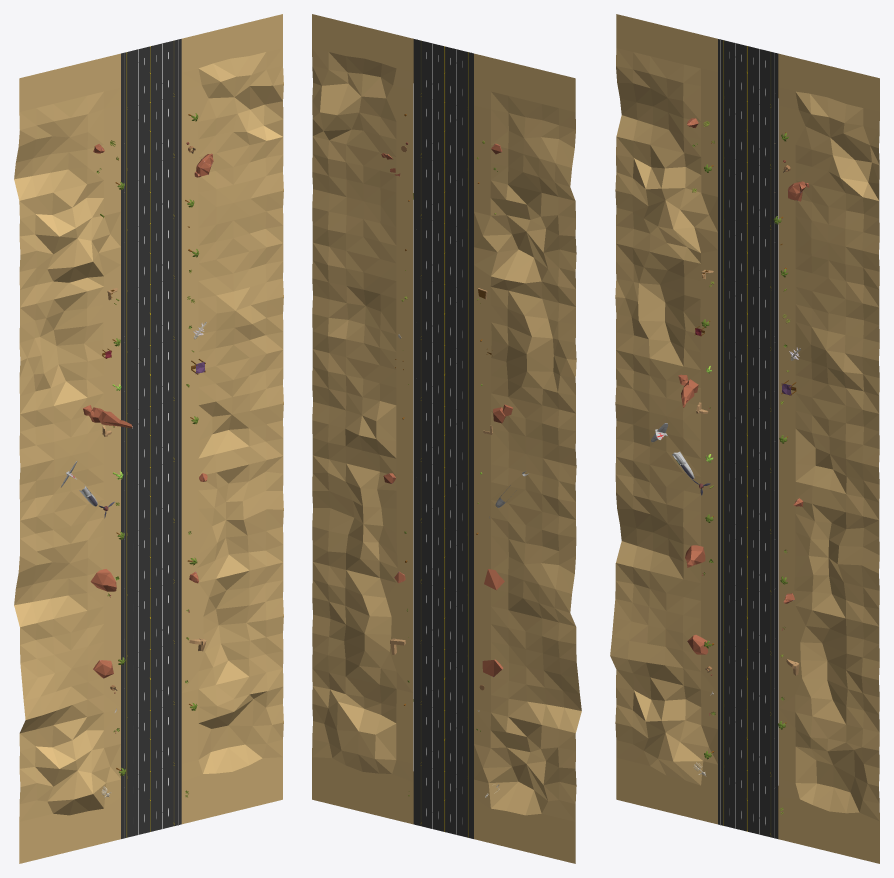
File: Desert road 2.fbx
3 views of the same model, side by side, from view 1: azimuth 30°, elevation 25°; view 2: azimuth 150°, elevation 25°; view 3: azimuth 330°, elevation 25° (orthographic).
Parts seen in each view (by area): view 1: Ground_11, Road, guardrail_C, Rock_16; view 2: Ground_11, Road; view 3: Ground_11, Road, guardrail_C.
Boxes of the visible parts, <box> form: Ground_11: <box>14,14,283,863</box>; Road: <box>121,39,181,838</box>; guardrail_C: <box>124,40,178,838</box>; Rock_16: <box>83,405,132,428</box>; Ground_11: <box>312,14,581,863</box>; Road: <box>413,39,473,838</box>; Ground_11: <box>610,14,879,863</box>; Road: <box>718,39,778,838</box>; guardrail_C: <box>720,40,774,838</box>.
Size of the model in its own units: 6978 by 19877 by 1339.
16 materials, 16 textured.
